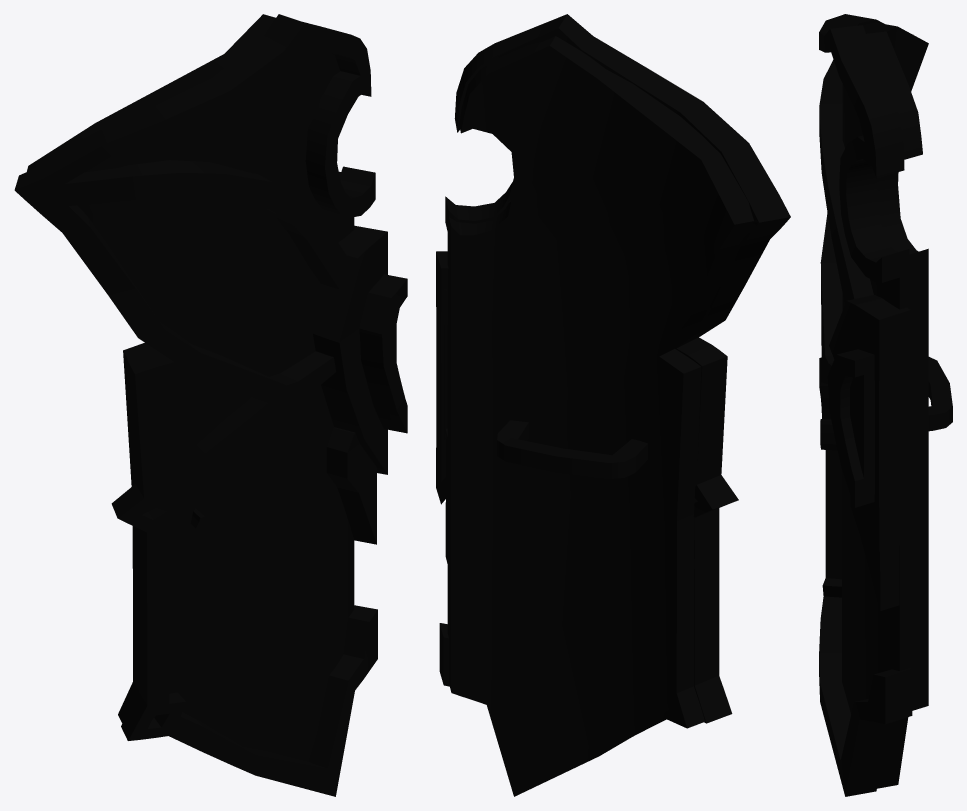
The model's file is Shield_L.fbx.
3 renders of one model, left to right at view 1: azimuth 30°, elevation 25°; view 2: azimuth 150°, elevation 25°; view 3: azimuth 270°, elevation 25°, orthographic. The views are drawn at different scales.
Visible parts, largest first — view 1: escudo2; view 2: escudo2; view 3: escudo2.
Boxes of the visible parts, x1,y1,x2,y2 form: escudo2: (14, 14, 407, 796); escudo2: (436, 14, 790, 796); escudo2: (819, 14, 952, 796).
Bounding box in the file's own units: 239 × 478 × 77.3.
